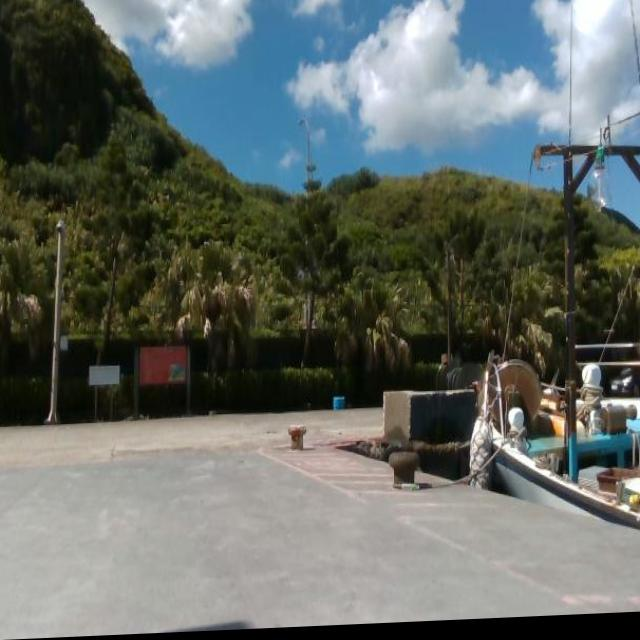pollute: (333, 398, 346, 413)
